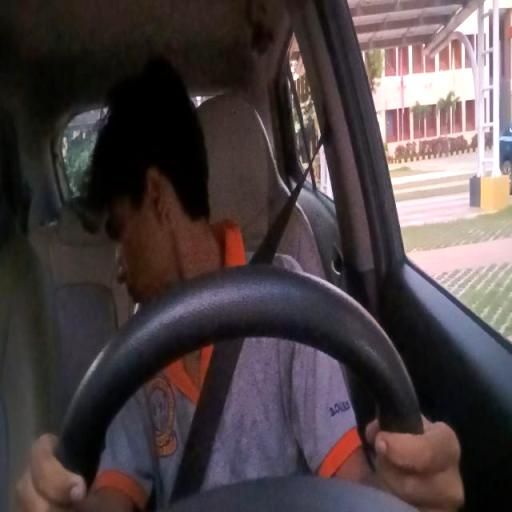Reaching_behind: (32, 76, 447, 508)
